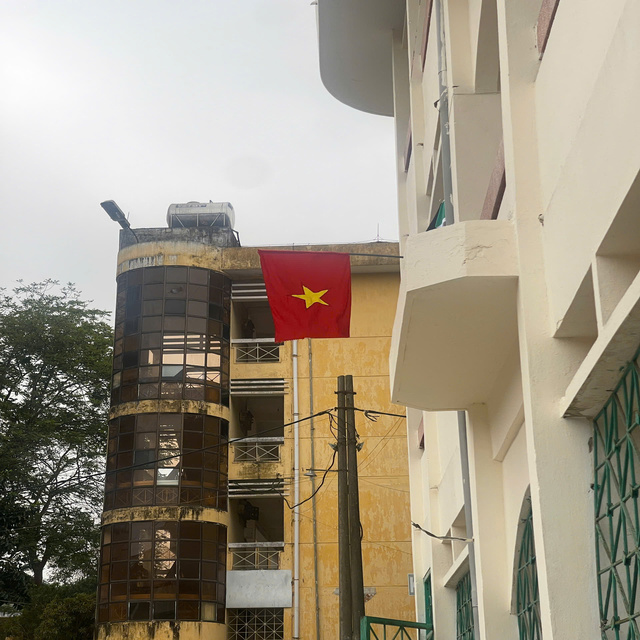laco: (246, 239, 361, 360)
